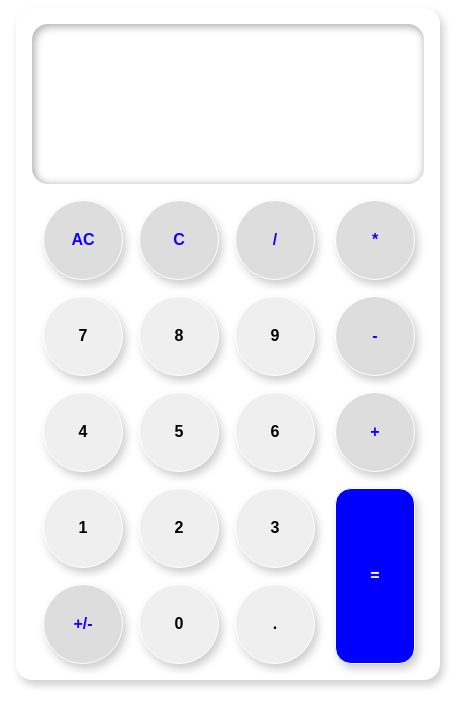
Scenario: Home Tests › updates displayText when a button is clicked
This screenshot has width=464, height=705.
Selecciona el botón con el texto '7'
Click the button "7" at (83, 336), box 43,296 -> 123,376
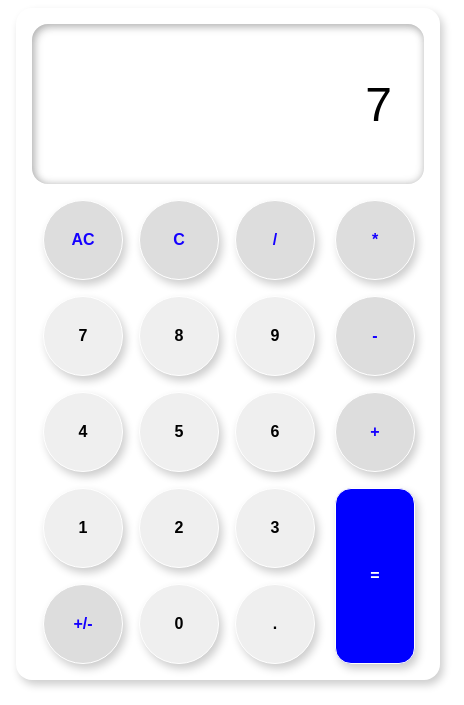
Expected: the text "7" is shown, 365,78 -> 392,130
